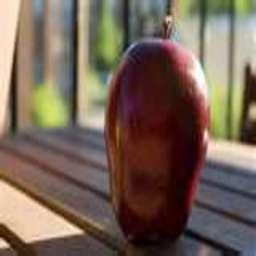apple: (104, 39, 212, 246)
